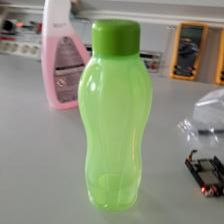bottle: (78, 15, 157, 209)
